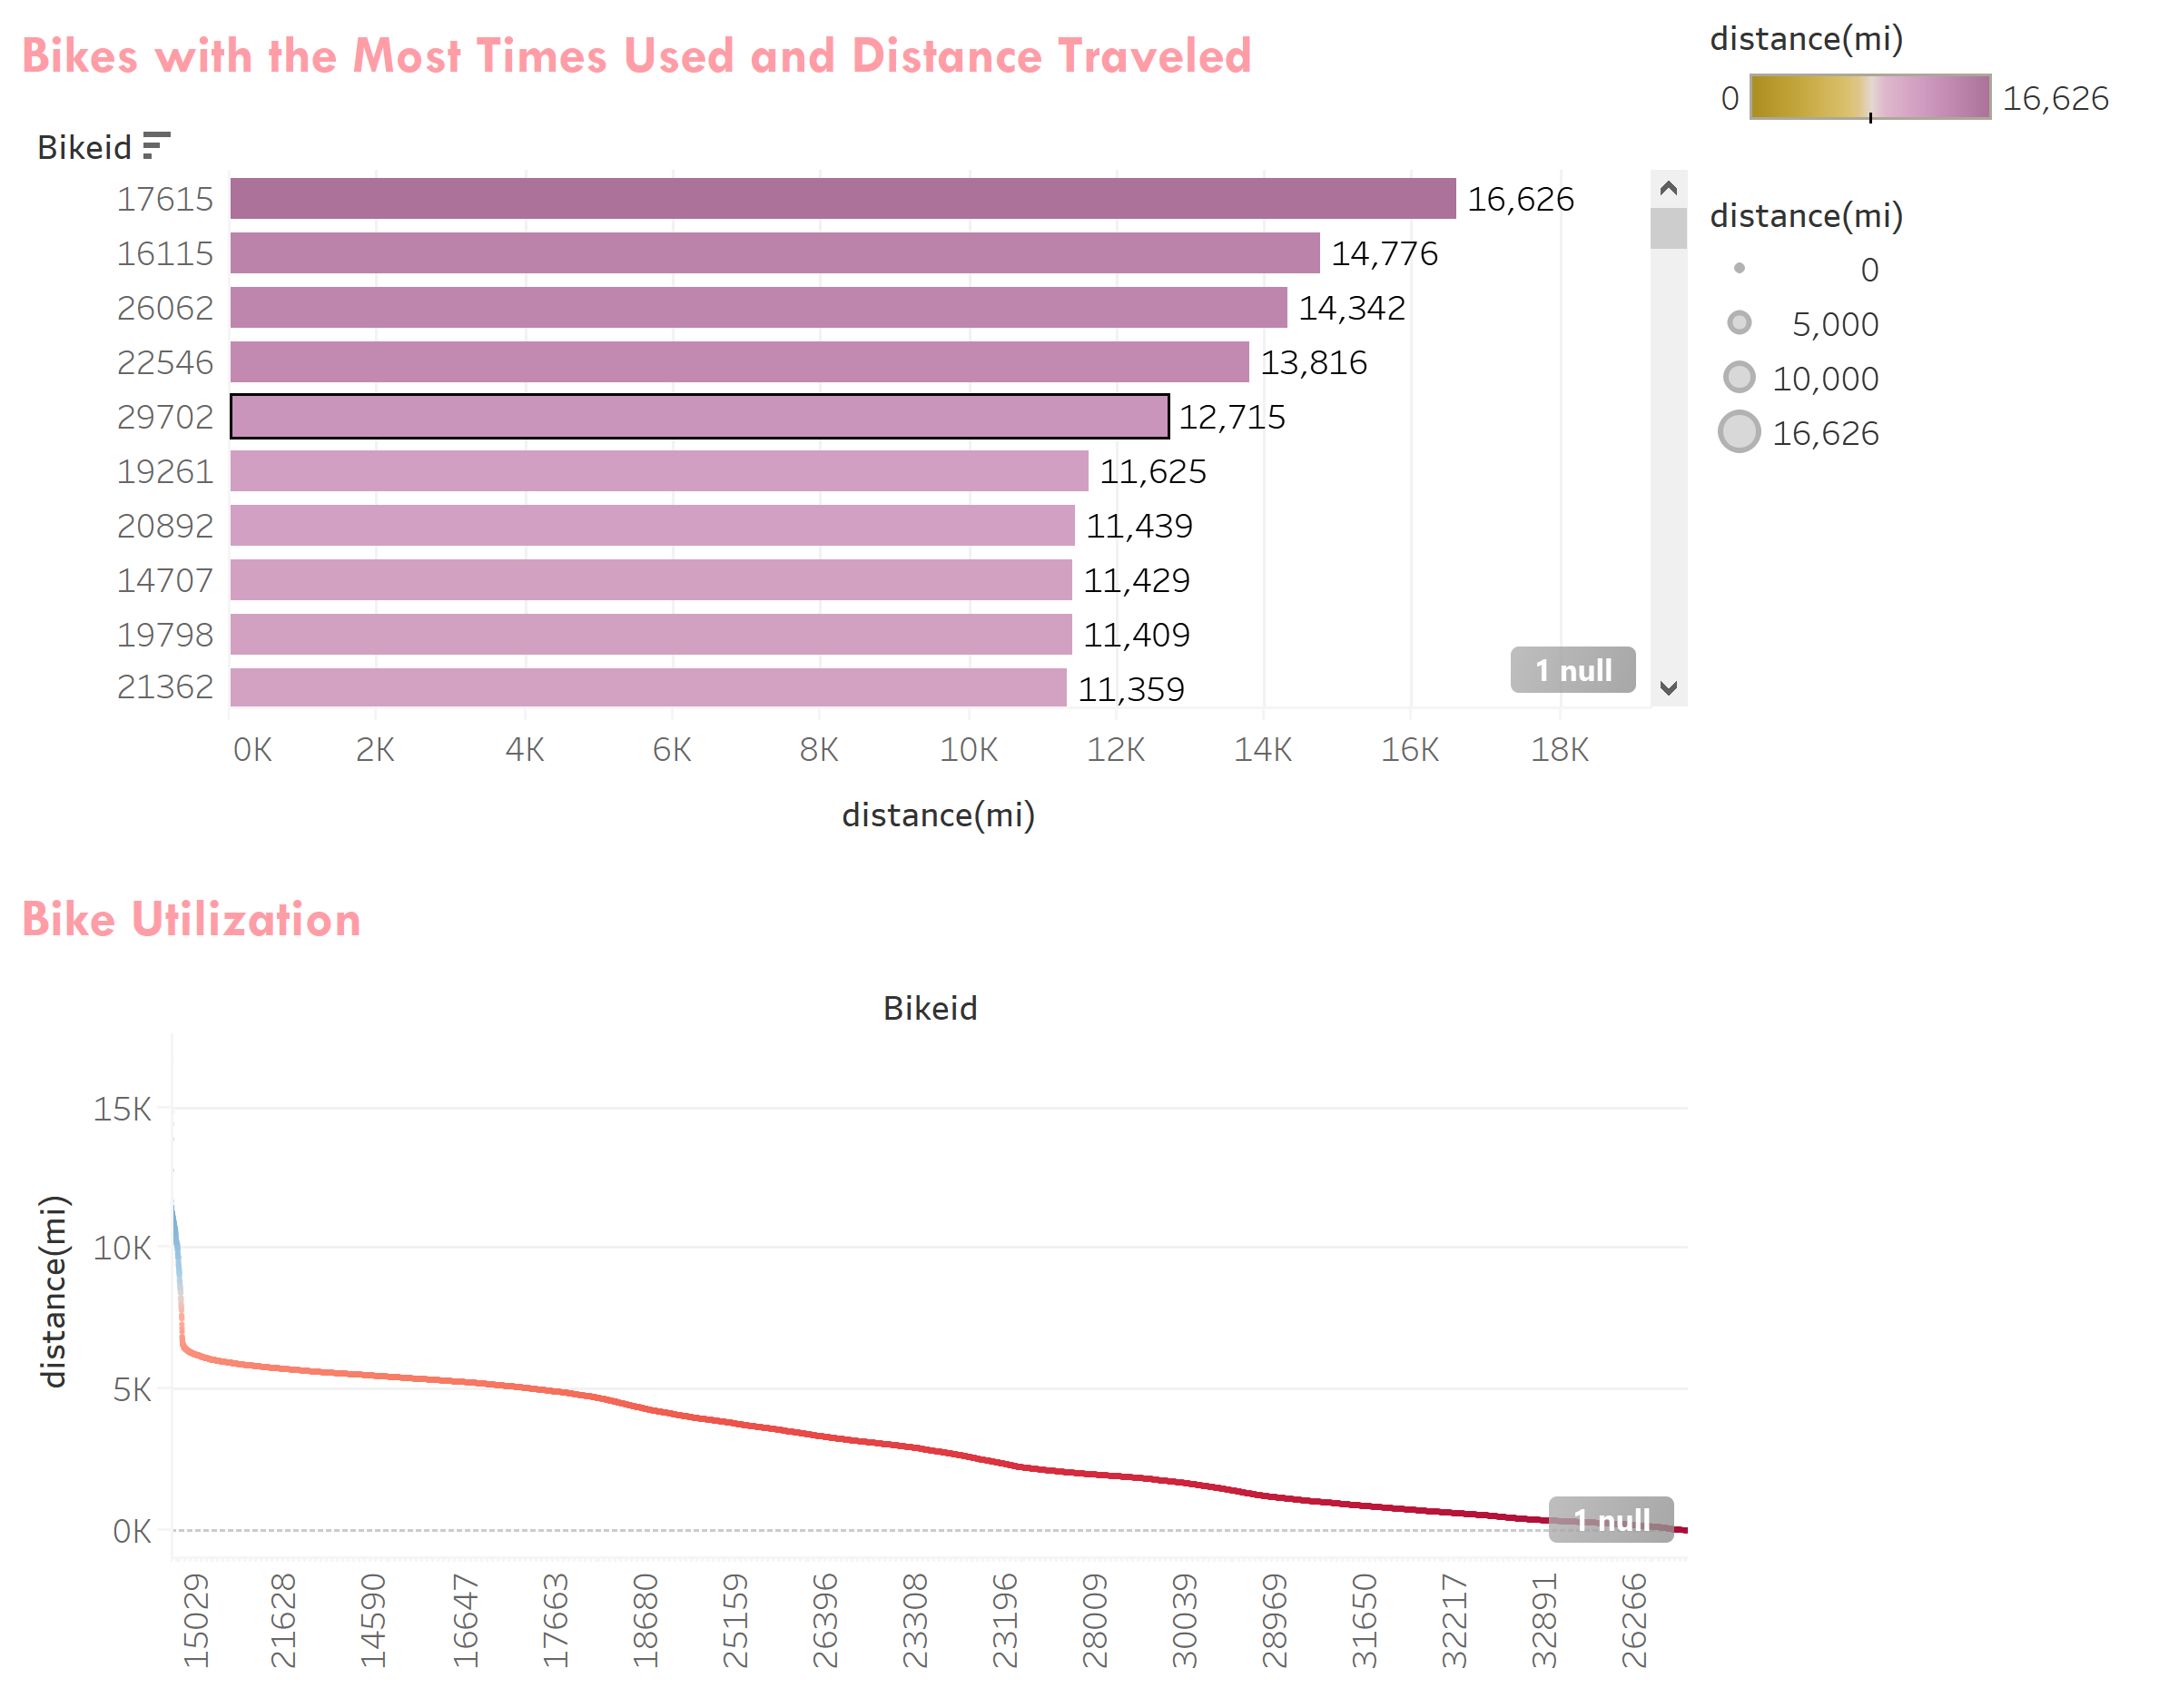

This screenshot's page, from the dashboard's own definition file:
{"tool":"tableau","page":{"name":"Dashboard 2","canvas":[800,600],"ordinal":1},"visuals":[{"type":"worksheet","title":"Sheet 3","mark":"Bar","rows":["usertype"],"cols":["starttime","starttime","usertype"],"box":[8,8,624,584]},{"type":"filter","title":"Sheet 3","param":"[federated.0o6bcyj08k7vi61bhyd3708n9wq9].[yr:starttime:ok]","box":[632,8,160,146]},{"type":"legend","title":"Sheet 3","param":"[federated.0o6bcyj08k7vi61bhyd3708n9wq9].[none:usertype:nk]","box":[632,154,160,66]}]}

Visuals, with their boxes on the page's 800x600 design canvas (x1, y1, x2, y2). These are canvas units, not pixel positions in the 2169x1708 screenshot, which may show the page scaled, cropped or inside an application window:
"Sheet 3" worksheet (Bar marks): <bbox>8, 8, 632, 592</bbox>
"Sheet 3" filter: <bbox>632, 8, 792, 154</bbox>
"Sheet 3" legend: <bbox>632, 154, 792, 220</bbox>
